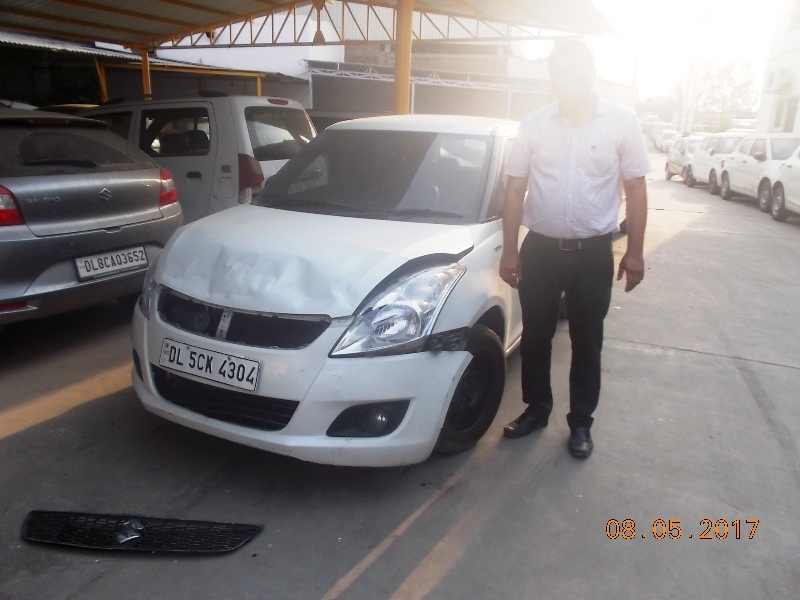Dent: (177, 247, 340, 310)
Dislocation: (425, 321, 477, 367)
